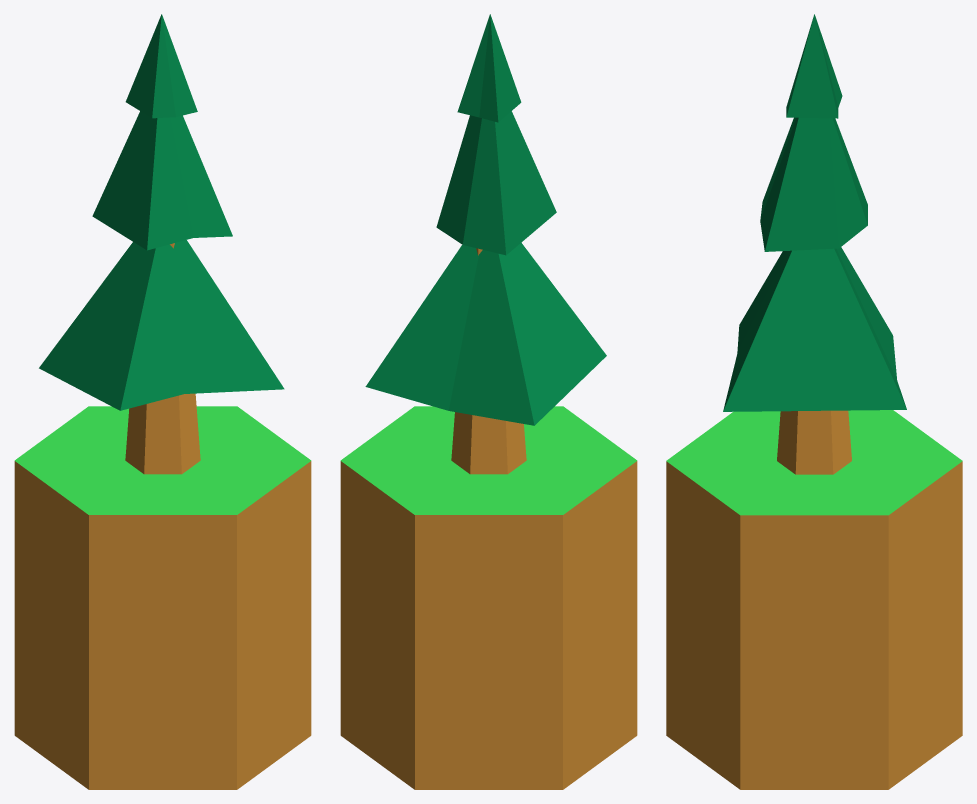
The model's file is HexTree.fbx.
3 views of the same model, side by side, from view 1: azimuth 30°, elevation 25°; view 2: azimuth 150°, elevation 25°; view 3: azimuth 270°, elevation 25° (orthographic).
Visible parts, largest first — view 1: Cylinder.001; view 2: Cylinder.001; view 3: Cylinder.001.
Boxes of the visible parts, x1,y1,x2,y2 form: Cylinder.001: [14, 14, 311, 789]; Cylinder.001: [340, 14, 637, 789]; Cylinder.001: [666, 14, 962, 789].
Bounding box in the file's own units: 174 × 538 × 201.
